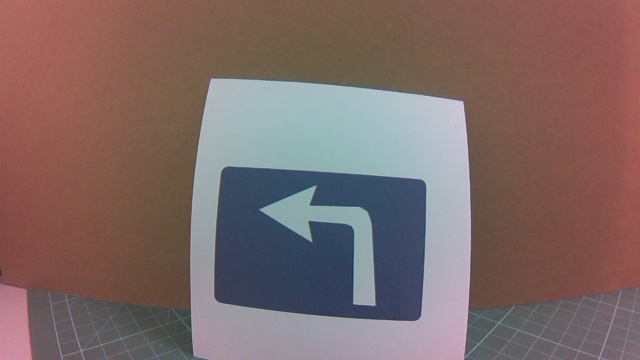left: (241, 153, 426, 321)
